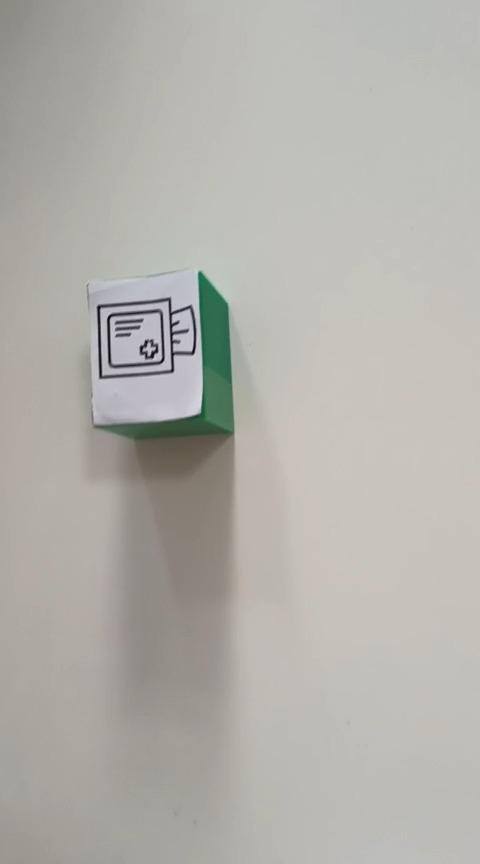Gauze: (85, 266, 234, 439)
